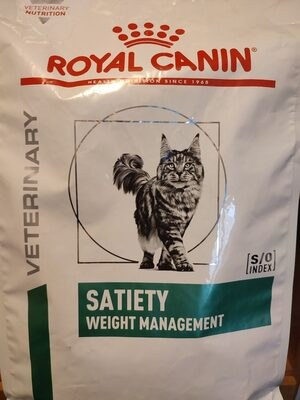Royal Canin - Croquettes Veterinary Diet Satiety: (15, 20, 285, 380)
